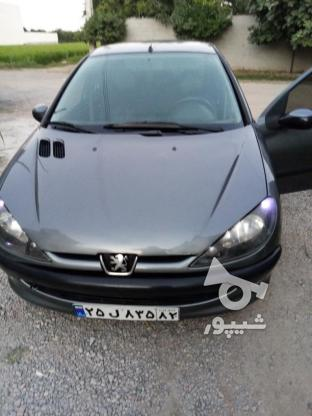car: (75, 305, 181, 319)
